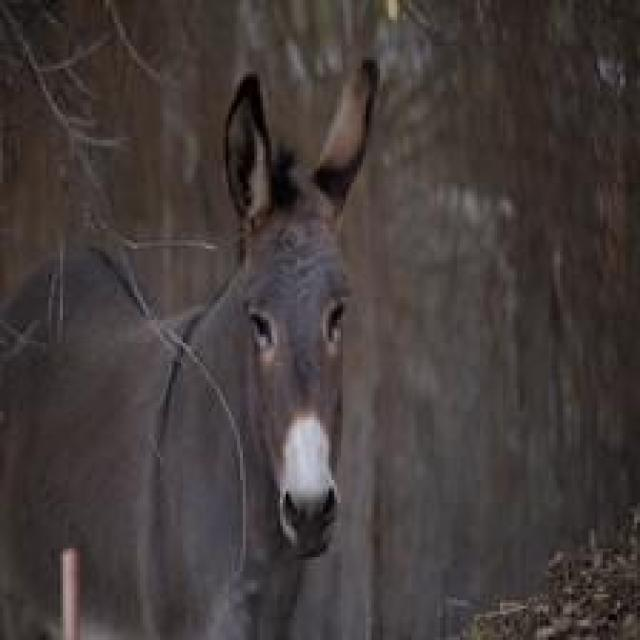Donkey: (0, 54, 380, 637)
